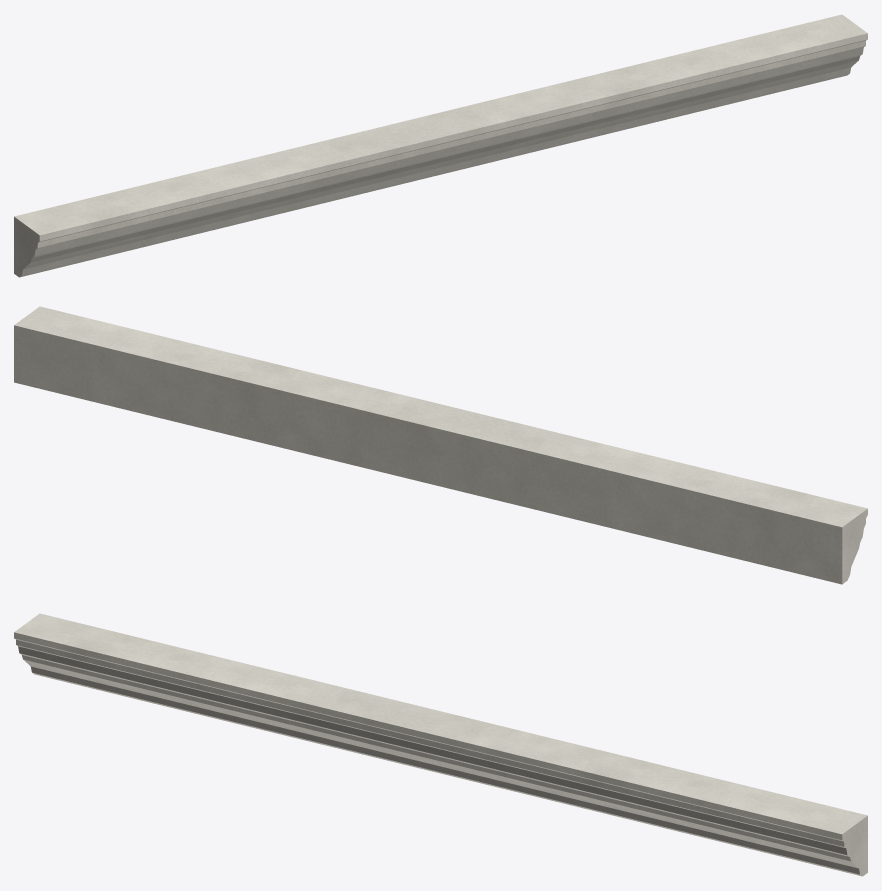
File: PZ_InteriorTrim_V08_Crown_2m.glb
3 renders of one model, top to bottom at view 1: azimuth 30°, elevation 25°; view 2: azimuth 150°, elevation 25°; view 3: azimuth 330°, elevation 25°, orthographic.
Parts seen in each view (by area): view 1: V08_Crown_2m__Crown_Moulding_Profile; view 2: V08_Crown_2m__Crown_Moulding_Profile; view 3: V08_Crown_2m__Crown_Moulding_Profile.
Part boxes in pixels (x1,y1,x2,y2): V08_Crown_2m__Crown_Moulding_Profile: [14, 14, 867, 277]; V08_Crown_2m__Crown_Moulding_Profile: [14, 306, 867, 584]; V08_Crown_2m__Crown_Moulding_Profile: [14, 613, 867, 876].
Bounding box in the file's own units: 2 × 0.132 × 0.108.
1 material, 1 textured.
